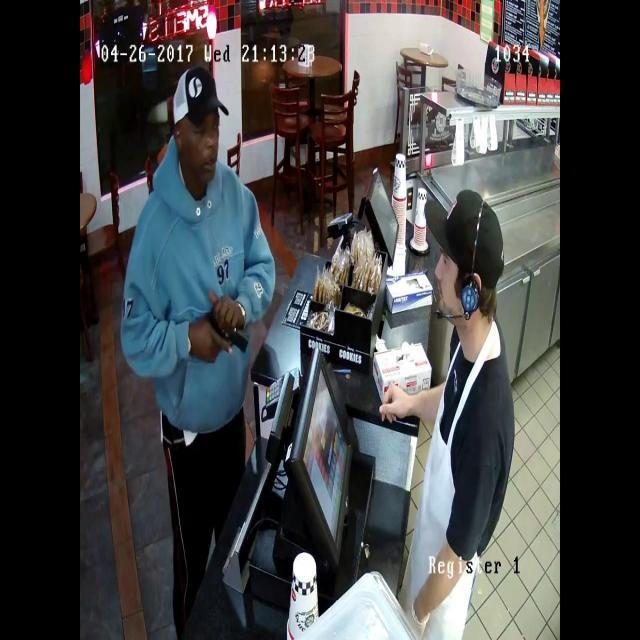weapon: (193, 301, 261, 367)
